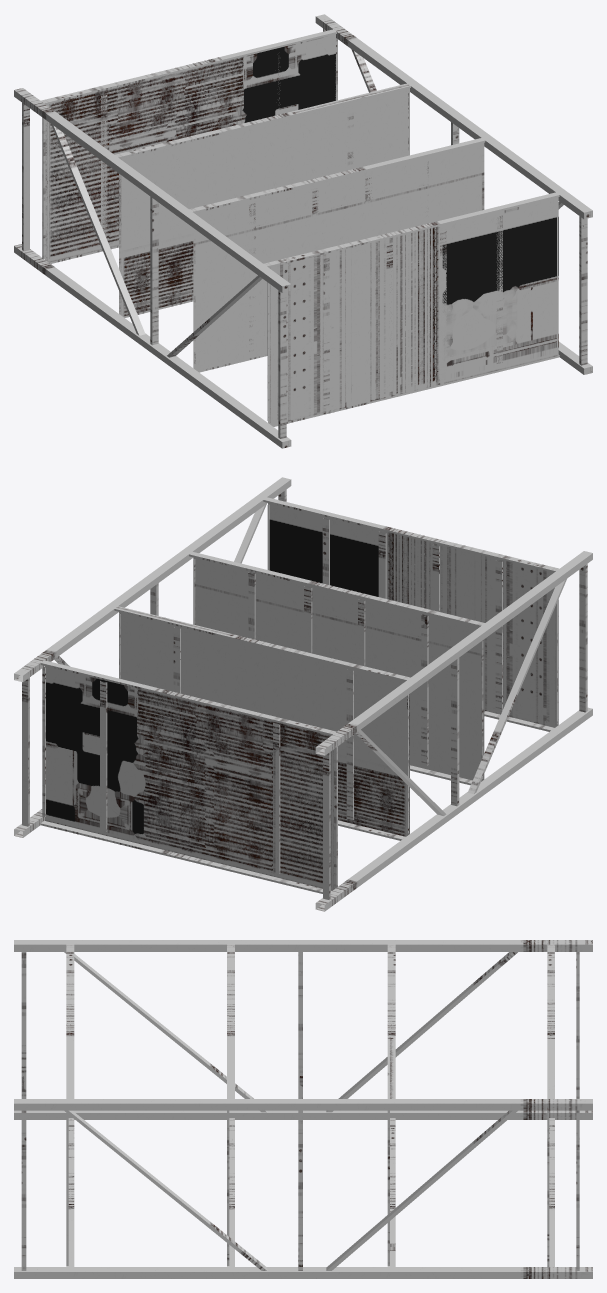
File: shelf.obj
3 renders of one model, top to bottom at view 1: azimuth 30°, elevation 25°; view 2: azimuth 150°, elevation 25°; view 3: azimuth 270°, elevation 25°, orthographic. The views are drawn at different scales.
Visible parts, largest first — view 1: shelf; view 2: shelf; view 3: shelf.
Part boxes in pixels (box(x1,y1,x2,y2)): shelf: box(14, 14, 592, 448); shelf: box(14, 477, 592, 911); shelf: box(14, 940, 592, 1278).
Bounding box in the file's own units: 1.2 × 0.601 × 1.8.
Materials: 1 (1 with a texture image).
